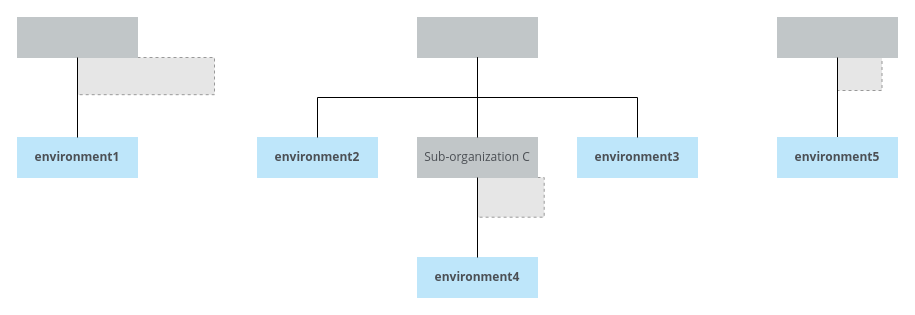
Image size: 915x315. Some labels were removed from this diagram. Grey dashed boxes stand in for pictures. Here are the shapes that lost their labels. From the top down, the centre of each, then its label:
At point 77,37: "Organization A".
At point 477,37: "Organization B".
At point 837,37: "Organization D".
